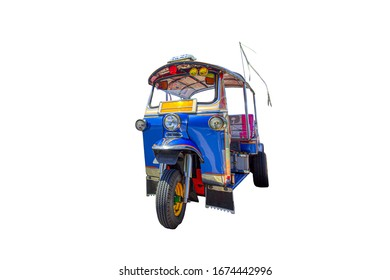threewheel: (135, 59, 269, 230)
